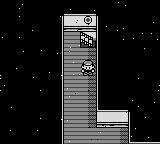main: (81, 61, 95, 76)
no-caminable: (1, 0, 160, 143), (64, 15, 96, 31), (96, 111, 128, 127)
puerta: (80, 32, 96, 47)
